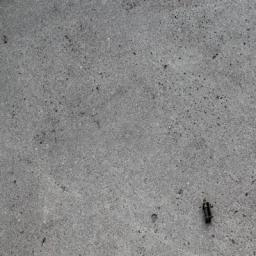FOD: (199, 195, 221, 227)
